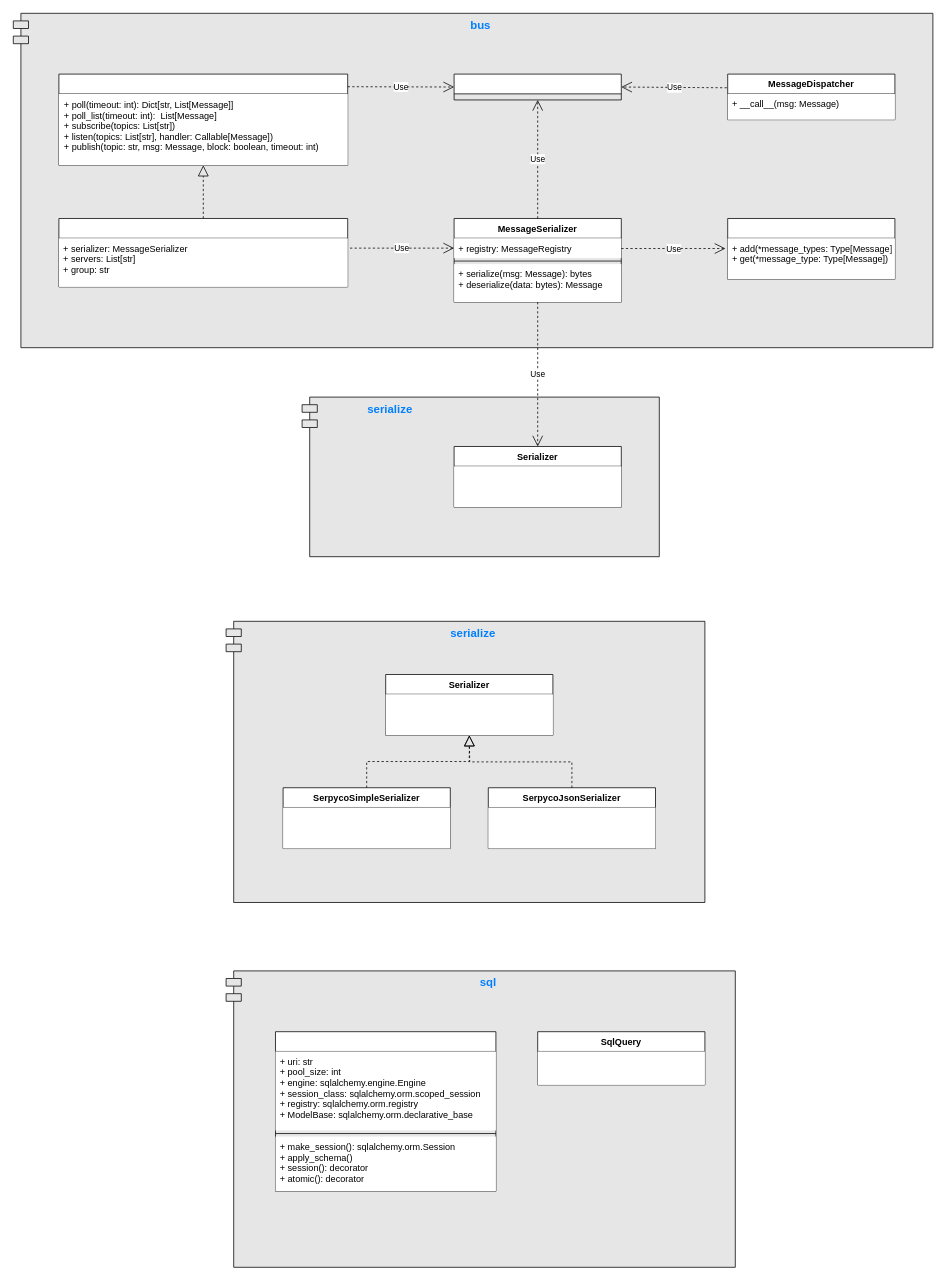
The diagram is 946 pixels wide and 1281 high, and some of its shapes have lost their labels. The shapes that lost their labels are listed below. From the top down, each one's box as (x1, y1, x2, y2) in pixels, then its label:
(453, 73, 621, 100): Message
(58, 73, 348, 165): MessageBroker
(58, 218, 348, 287): KafkaMessageBroker
(727, 218, 895, 279): MessageRegistry
(454, 466, 621, 507): + serialize(obj: Message): bytes + deserialize(data: bytes): Message
(385, 694, 553, 735): + serialize(obj: Any): Any + deserialize(data: Any): Any
(283, 807, 450, 848): + serialize(obj: Any): Dict[str, Any] + deserialize(data: Dict[str, Any]): Any
(488, 807, 655, 848): + serialize(obj: Any): bytes + deserialize(data: bytes): Any
(537, 1051, 705, 1085): + q: sqlalchemy.orm.Query + session: sqlalchemy.orm.Session
(275, 1031, 496, 1191): SqlEngine
